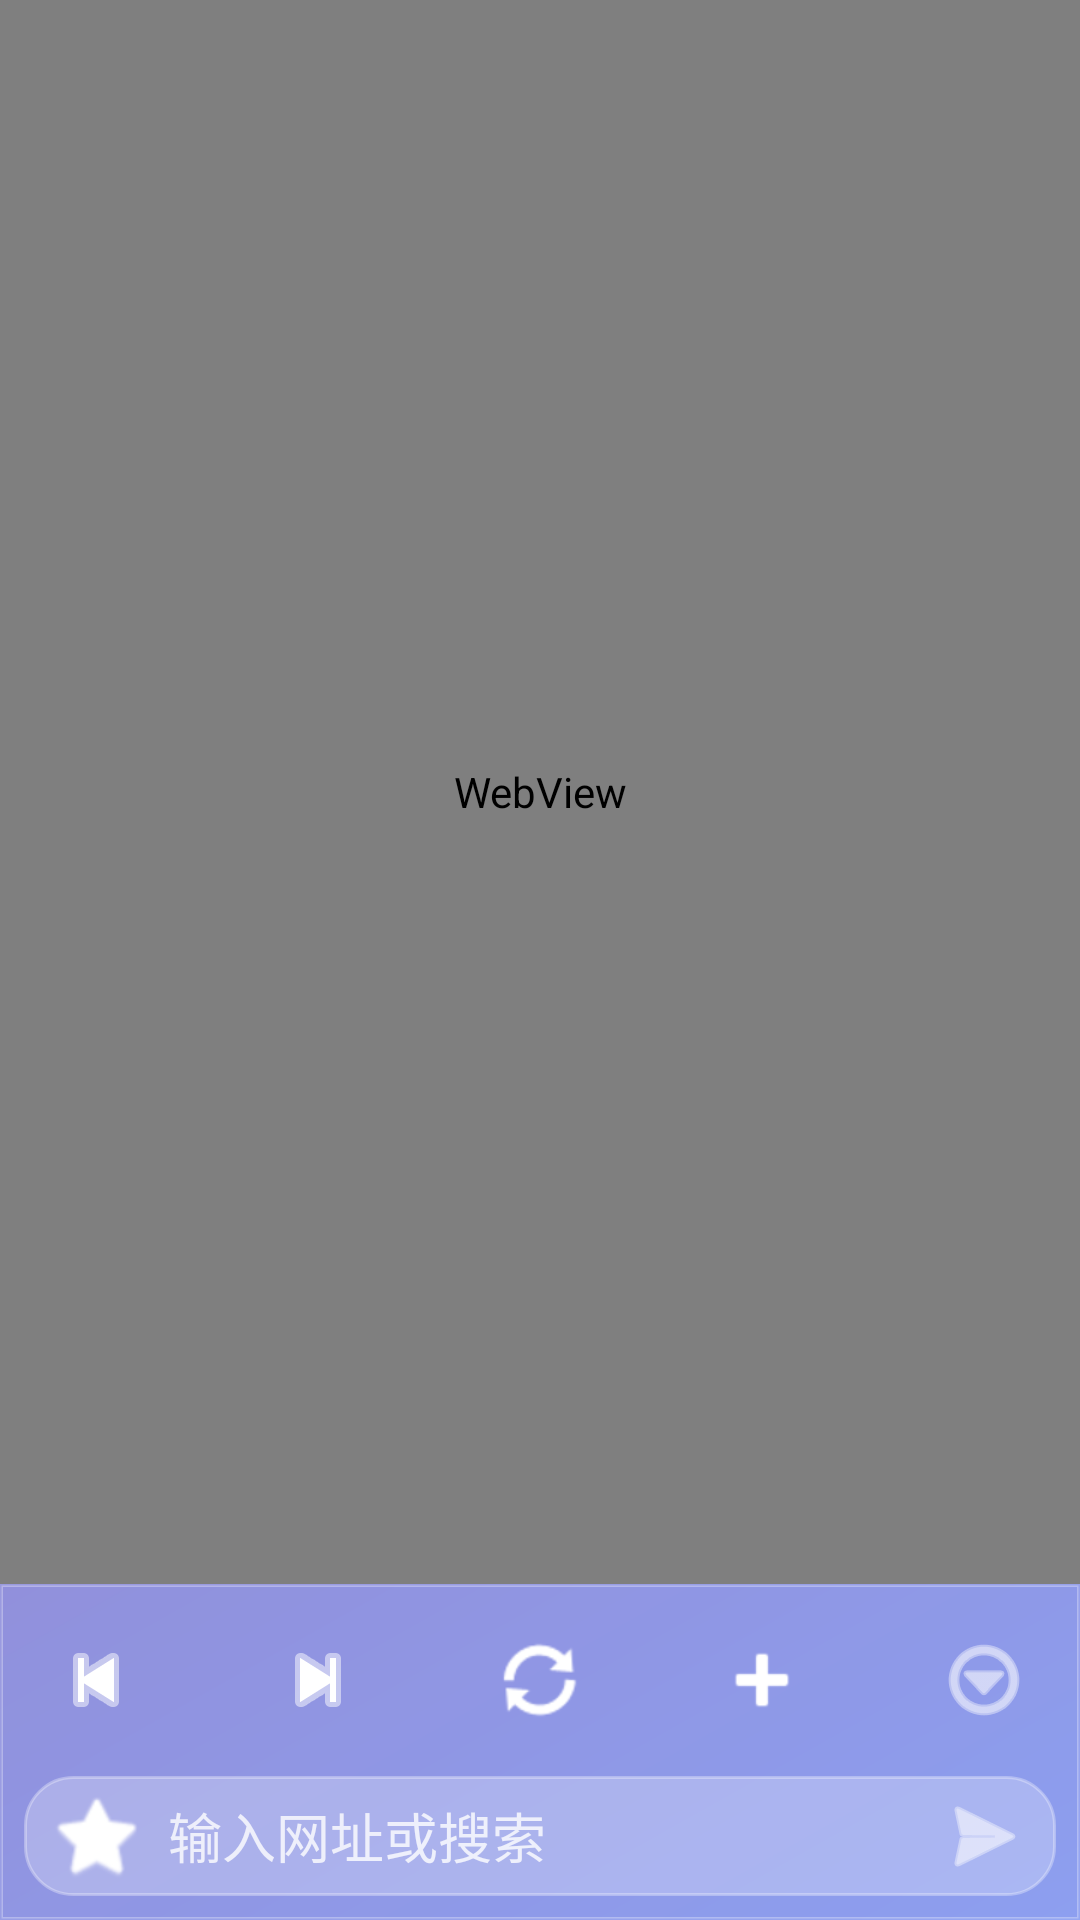

Where to tap for icons on this 1080 x 1920 app screen, as (x=x, y=y):
书签: (x=97, y=1836)
刷新: (x=540, y=1680)
前往: (x=985, y=1836)
前进: (x=318, y=1680)
后退: (x=96, y=1680)
更多: (x=984, y=1680)
添加到主屏幕: (x=762, y=1680)
